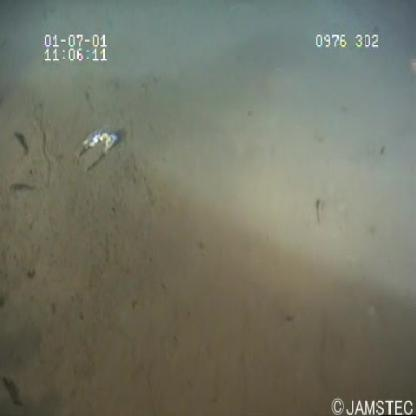Rác: (66, 119, 126, 185)
